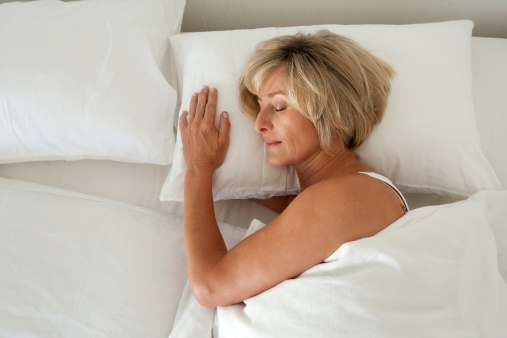deitado: (147, 40, 497, 338)
